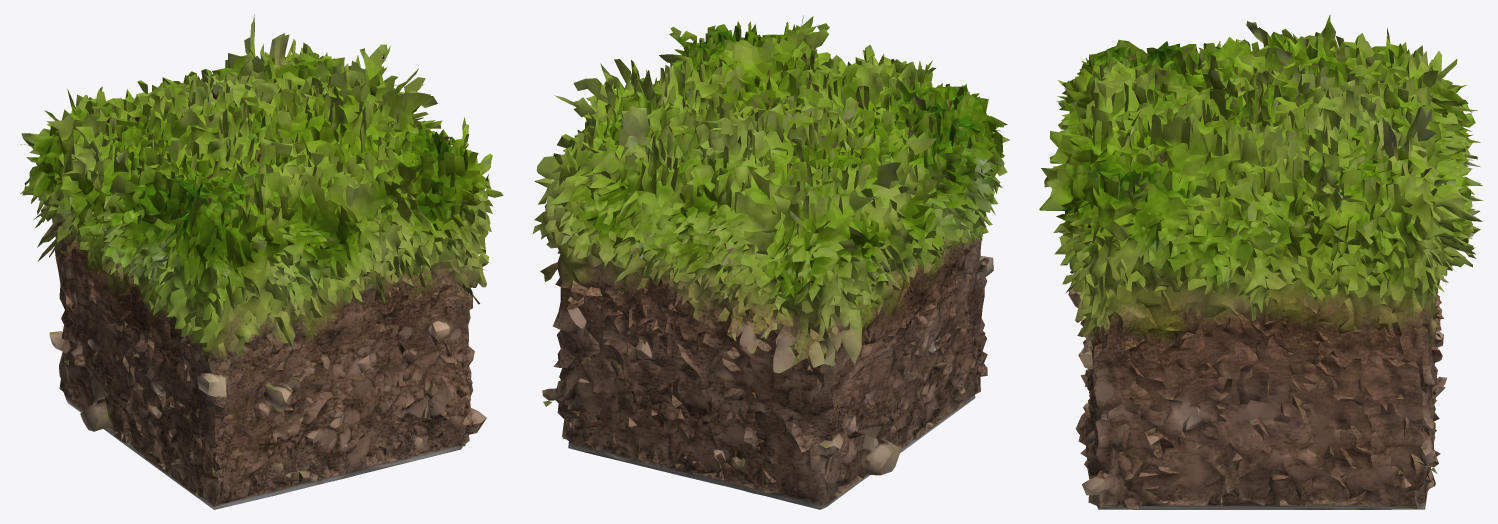
File: soilblock.glb
3 renders of one model, left to right at view 1: azimuth 30°, elevation 25°; view 2: azimuth 150°, elevation 25°; view 3: azimuth 270°, elevation 25°, orthographic. The views are drawn at different scales.
Visible parts, largest first — view 1: textured_mesh; view 2: textured_mesh; view 3: textured_mesh.
Part boxes in pixels (x1=…): textured_mesh: x1=17, y1=14, x2=503, y2=509; textured_mesh: x1=532, y1=15, x2=1009, y2=509; textured_mesh: x1=1039, y1=14, x2=1483, y2=509.
Bounding box in the file's own units: 1.95 × 1.82 × 1.98.
Materials: 1 (1 with a texture image).
